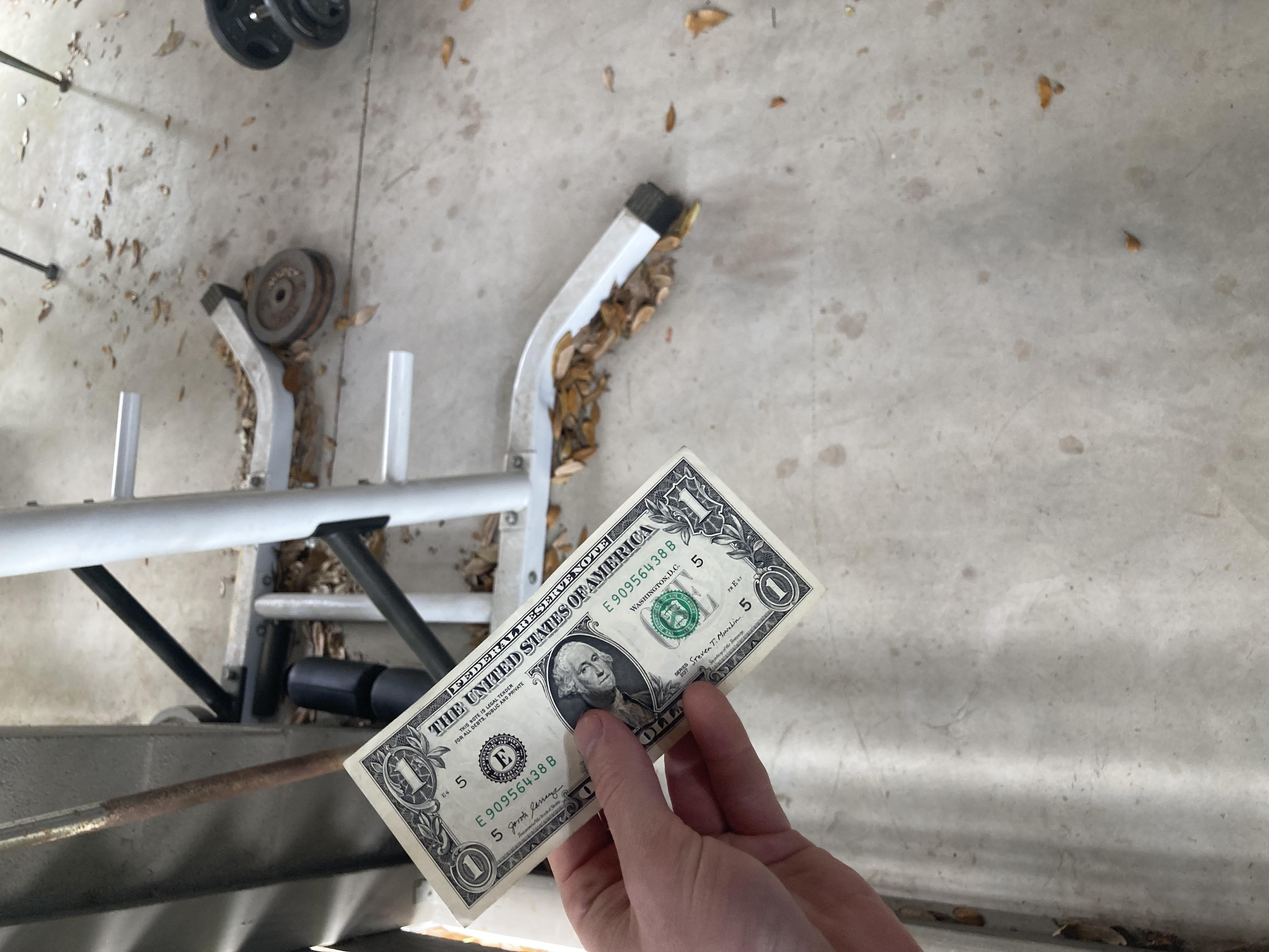one-front: (27, 261, 678, 621)
